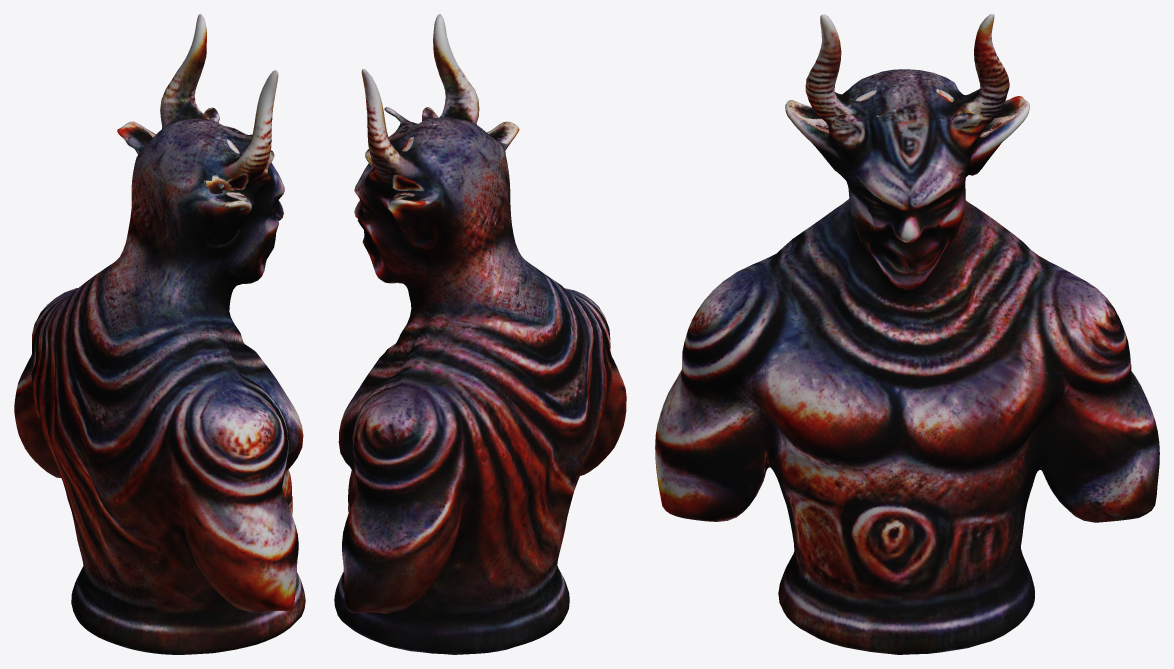
File: Statue 3.fbx
3 renders of one model, left to right at view 1: azimuth 30°, elevation 25°; view 2: azimuth 150°, elevation 25°; view 3: azimuth 270°, elevation 25°, orthographic. The views are drawn at different scales.
Parts seen in each view (by area): view 1: mesh; view 2: mesh; view 3: mesh.
Part boxes in pixels (bbox=[...]): mesh: bbox=[14, 14, 305, 654]; mesh: bbox=[334, 14, 626, 654]; mesh: bbox=[655, 14, 1159, 654].
Bounding box in the file's own units: 40.44 × 99.59 × 73.97.
